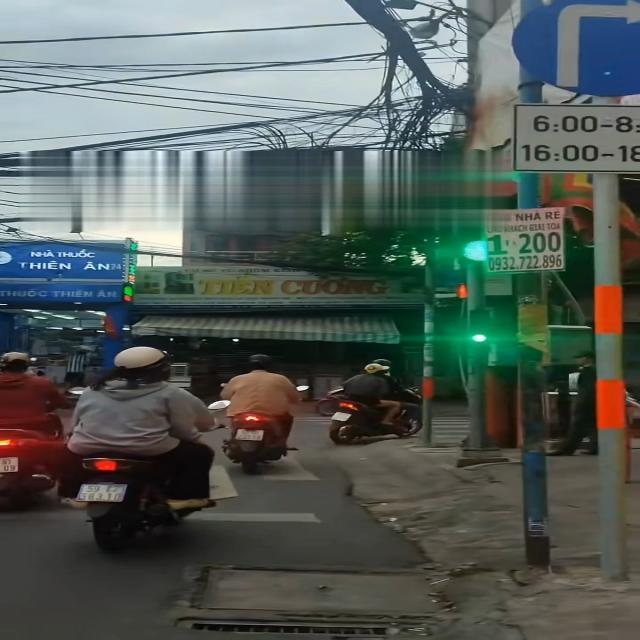301d-cac-xe-chi-duoc-re-phai-2: (517, 2, 640, 98)
